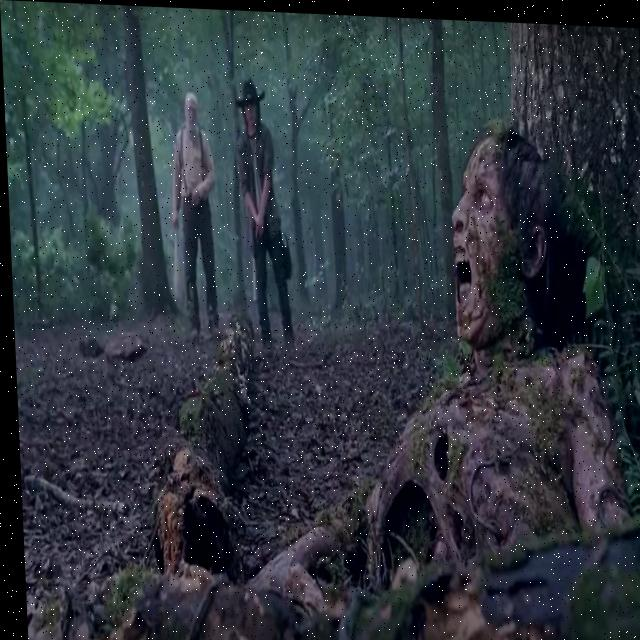Zombie: (422, 119, 563, 360)
